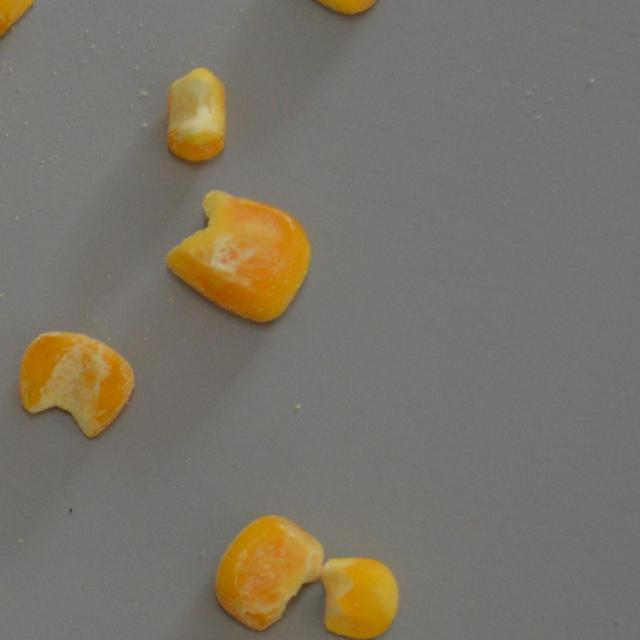no_canjicado: (321, 555, 400, 640)
pelicula: (166, 189, 310, 322), (213, 512, 324, 632), (18, 331, 136, 438), (164, 64, 227, 164), (0, 0, 34, 52), (288, 0, 412, 14)
